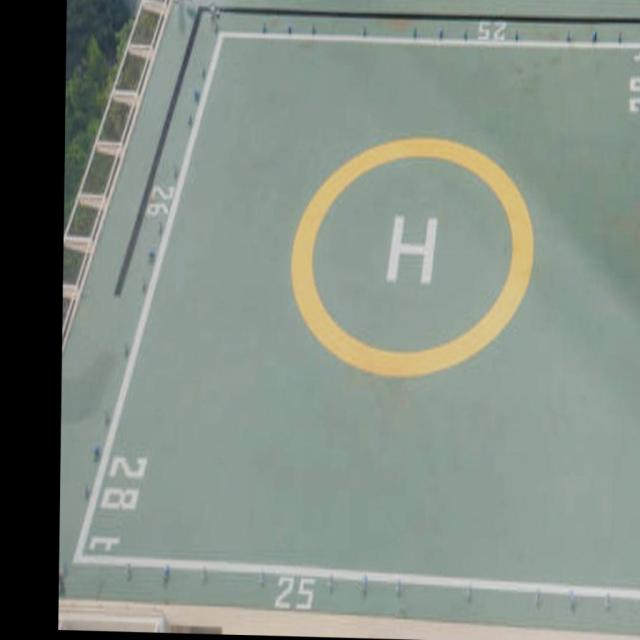helipad: (286, 132, 538, 382)
